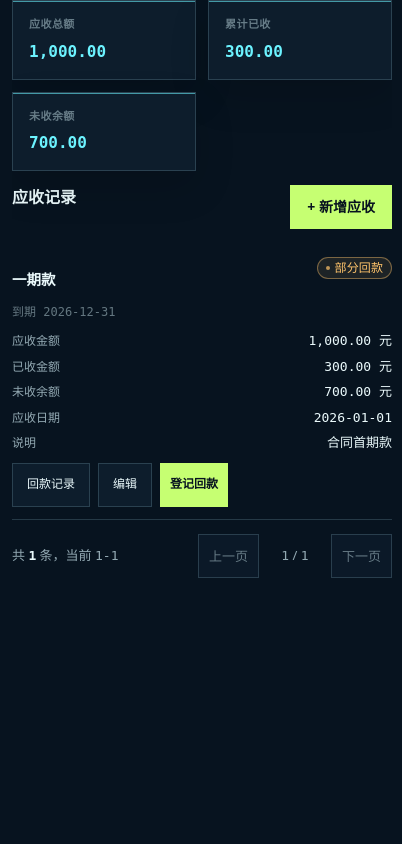
项目应收面板 › 展示应收汇总、状态和记录，并可展开逐笔回款
This screenshot has width=402, height=844.
Check: the button "一期款" is shown, box [12,257,308,301]
Check: the text "部分回款" is shown, box [316,257,392,279]
Click the button "回款记录" at (51, 484), box [12,462,90,506]
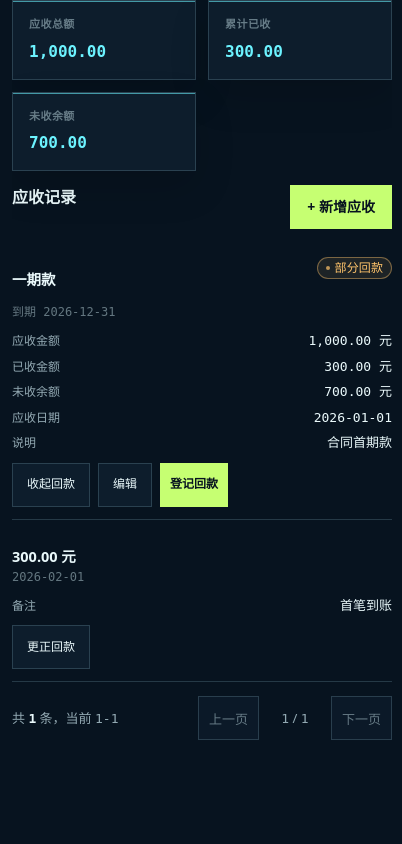
Check: the text "首笔到账" is shown 4 times
